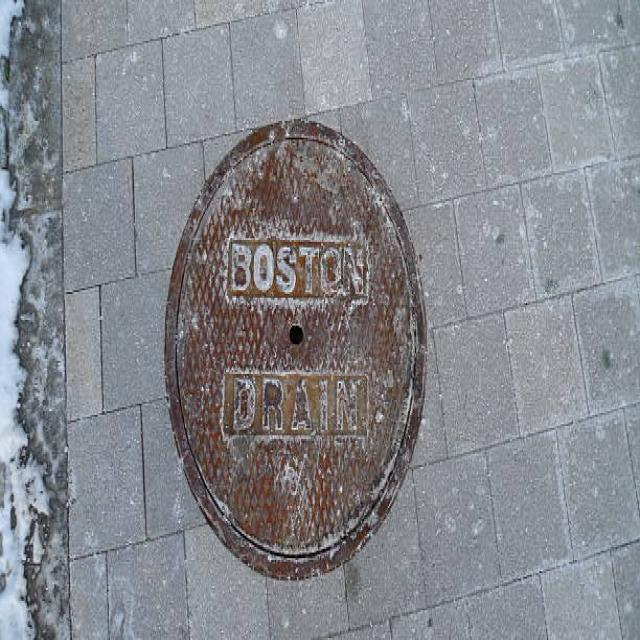Good: (157, 112, 435, 581)
